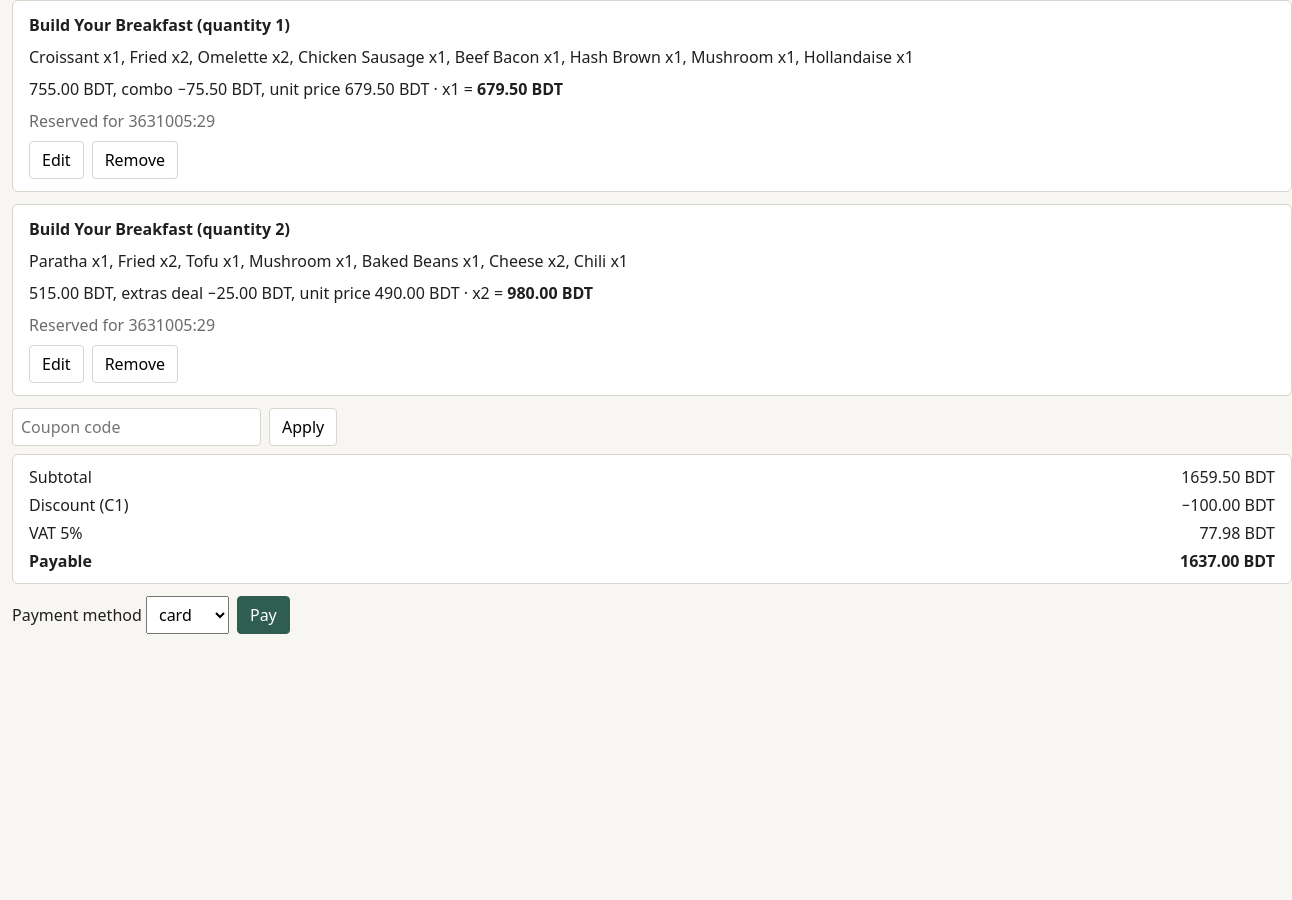
TC-06: breakdown at 10:59:59
Type "MORNING15" into the field labelled "Coupon code" at (136, 427), box top-left (12, 408), bottom-right (261, 446)
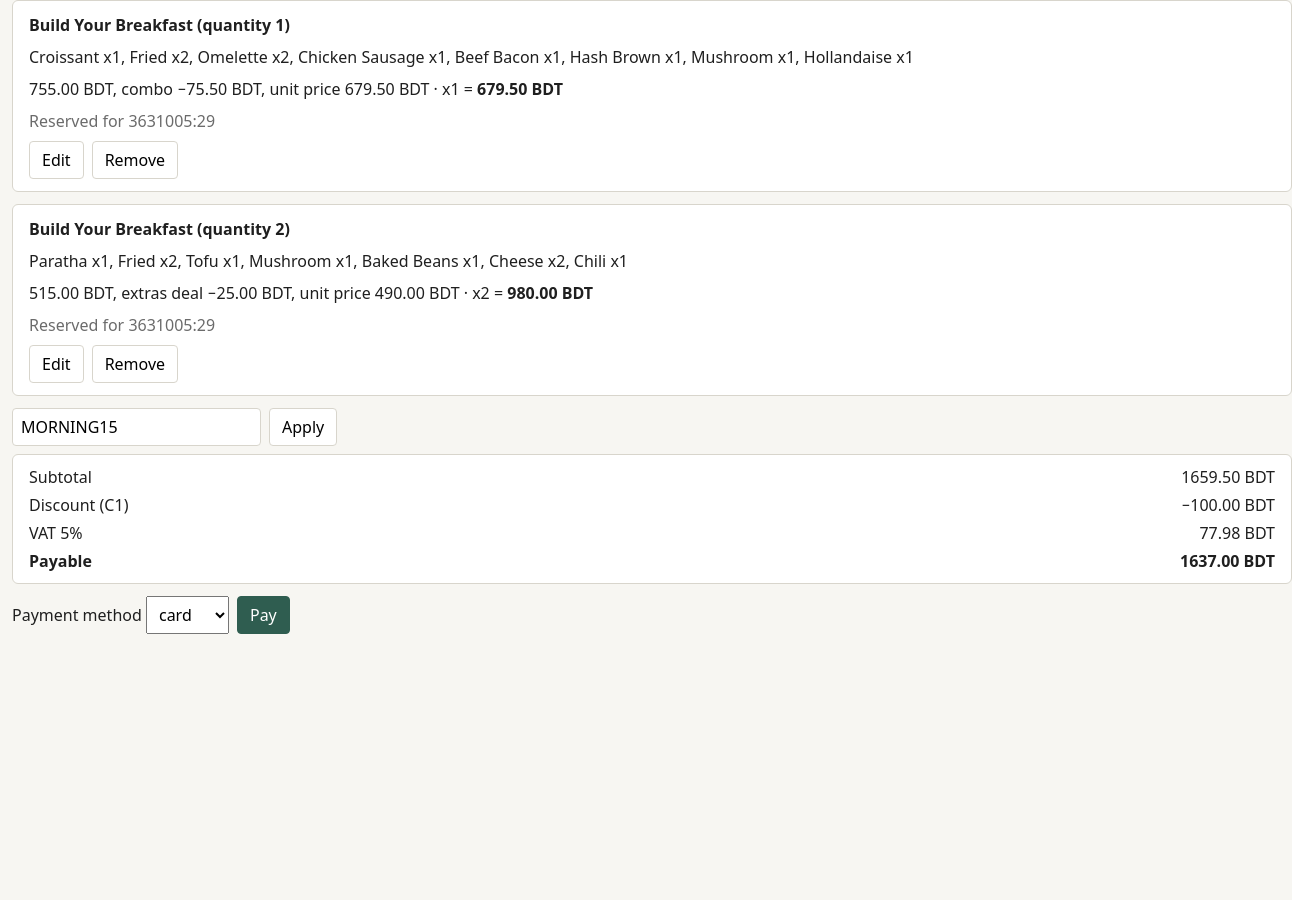
Click the button "Apply" at (303, 427), box top-left (269, 408), bottom-right (337, 446)
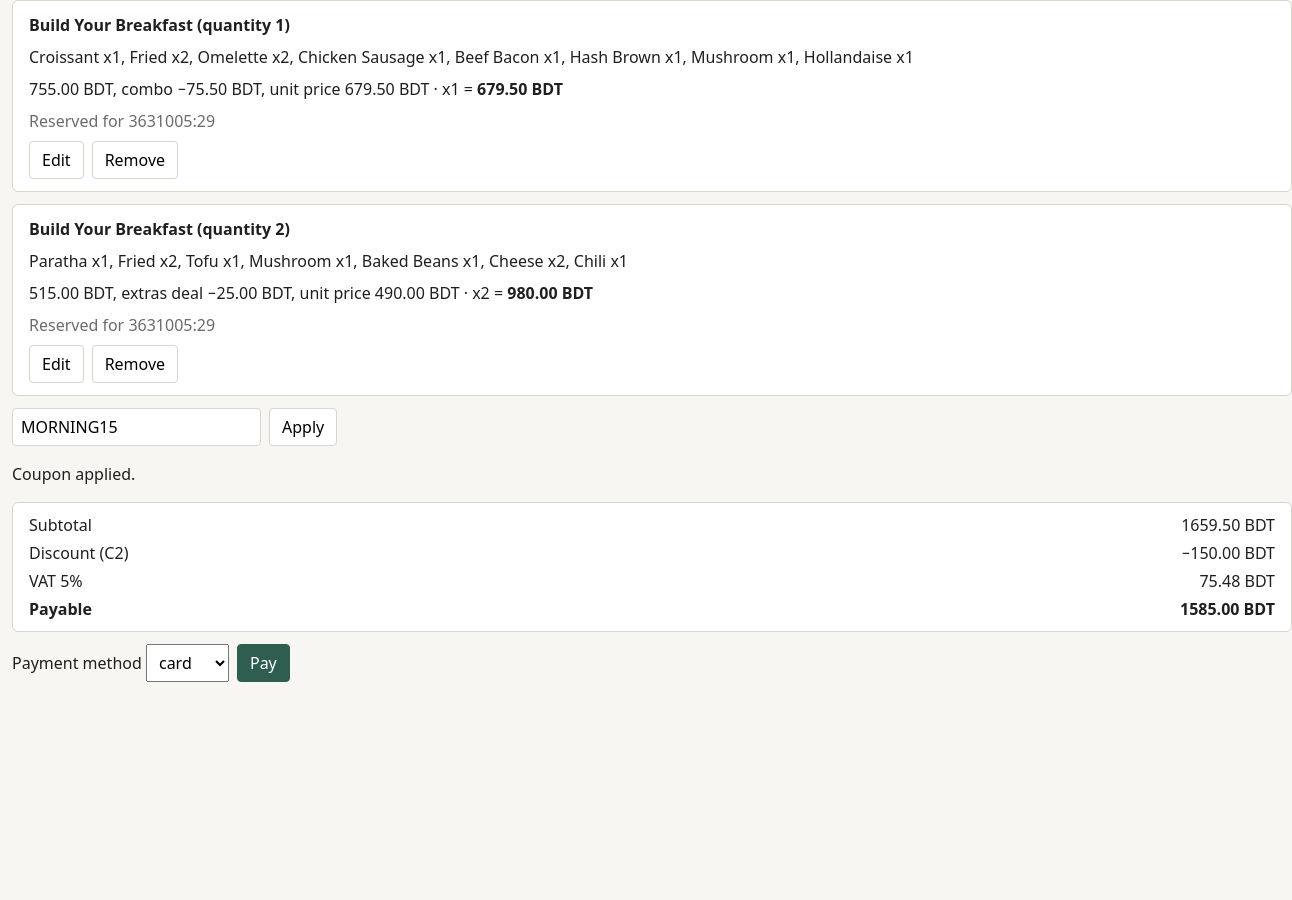
Check: the message "Coupon applied." is shown, box top-left (12, 463), bottom-right (135, 485)
Check: the text "−150.00 BDT" is shown, box top-left (1180, 541), bottom-right (1275, 565)
Check: the text "75.48 BDT" is shown, box top-left (1199, 570), bottom-right (1275, 592)
